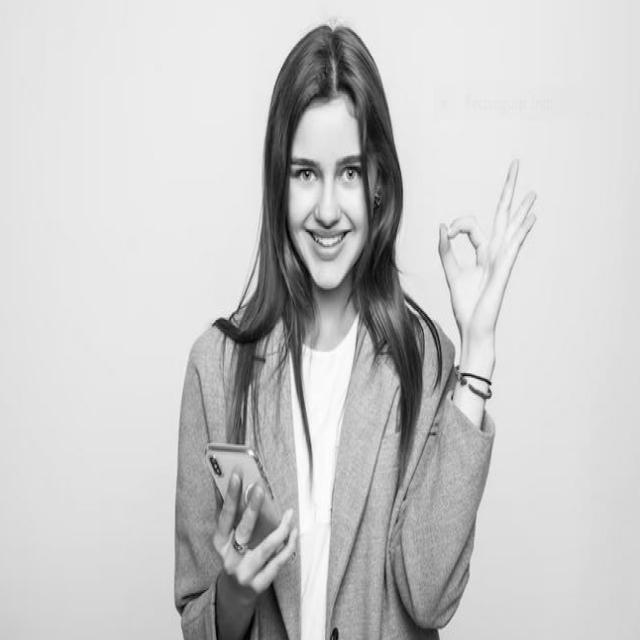perfect: (434, 150, 540, 363)
